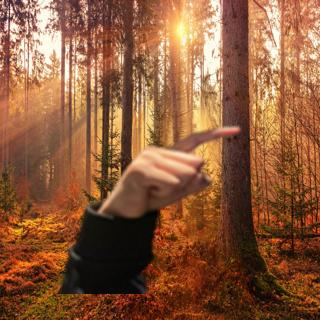WHY: (99, 116, 246, 219)
